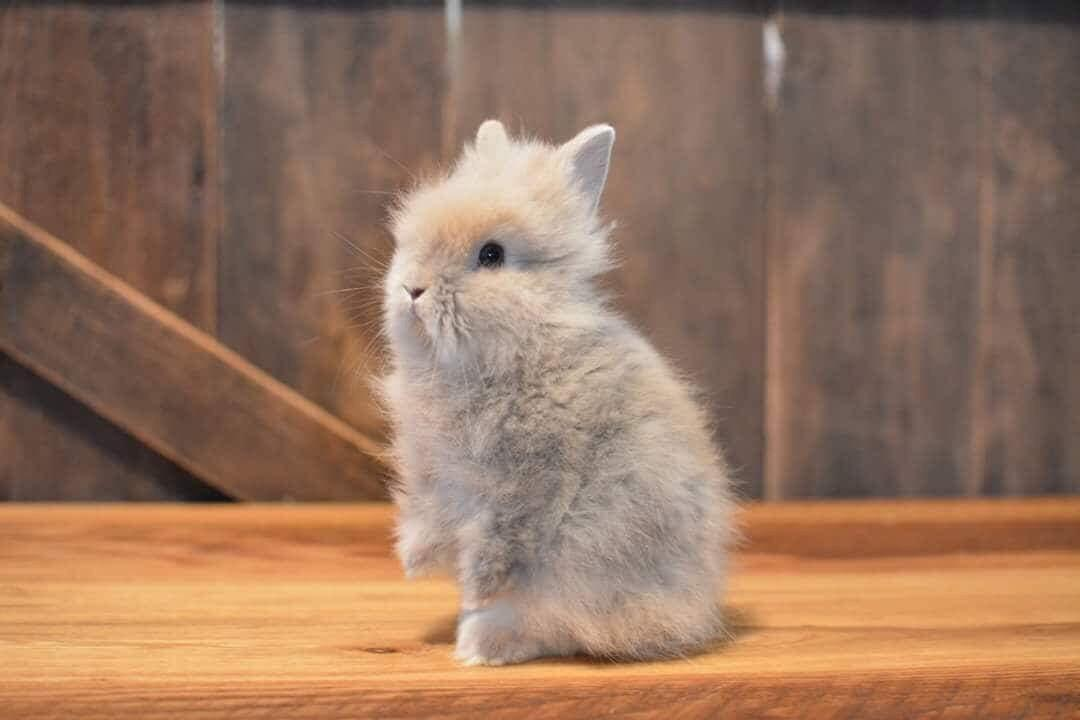bunny: (342, 103, 787, 689)
